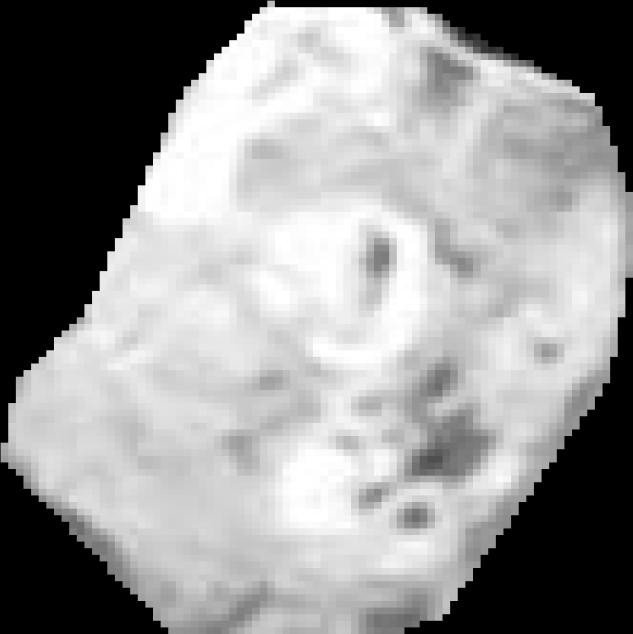tumor_moderate_chance: (1, 1, 633, 634)
